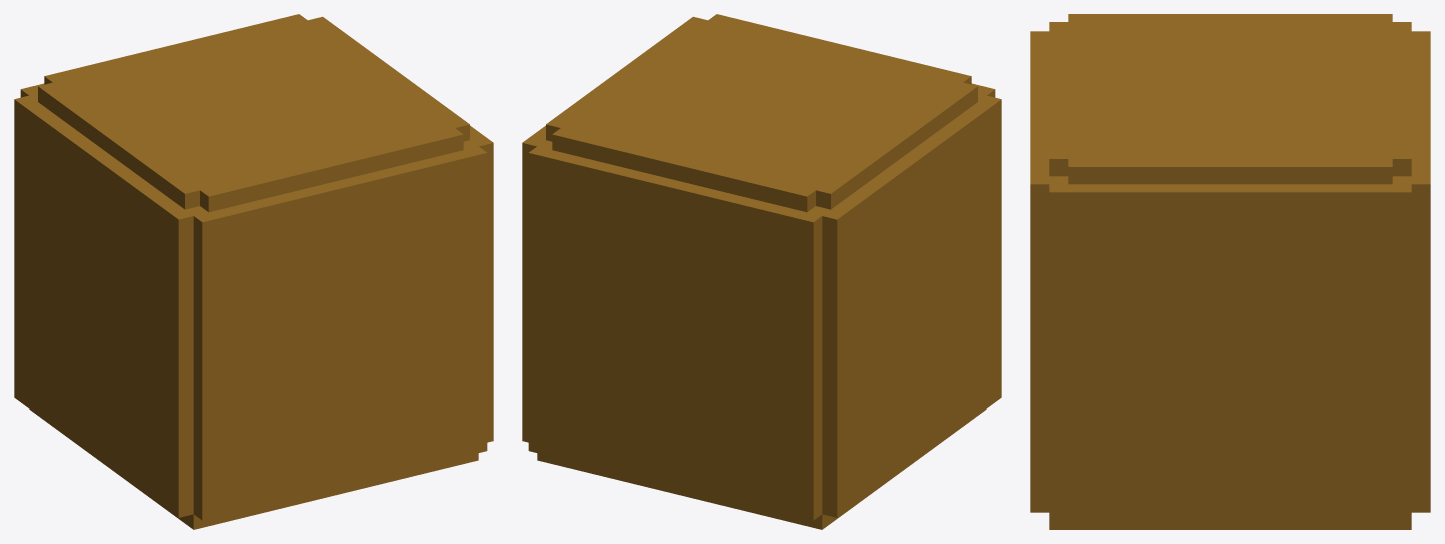
The model's file is base_block_v2.obj.
3 renders of one model, left to right at view 1: azimuth 30°, elevation 25°; view 2: azimuth 150°, elevation 25°; view 3: azimuth 270°, elevation 25°, orthographic. The views are drawn at different scales.
Size of the model in its own units: 2.1 by 2.1 by 2.1.
